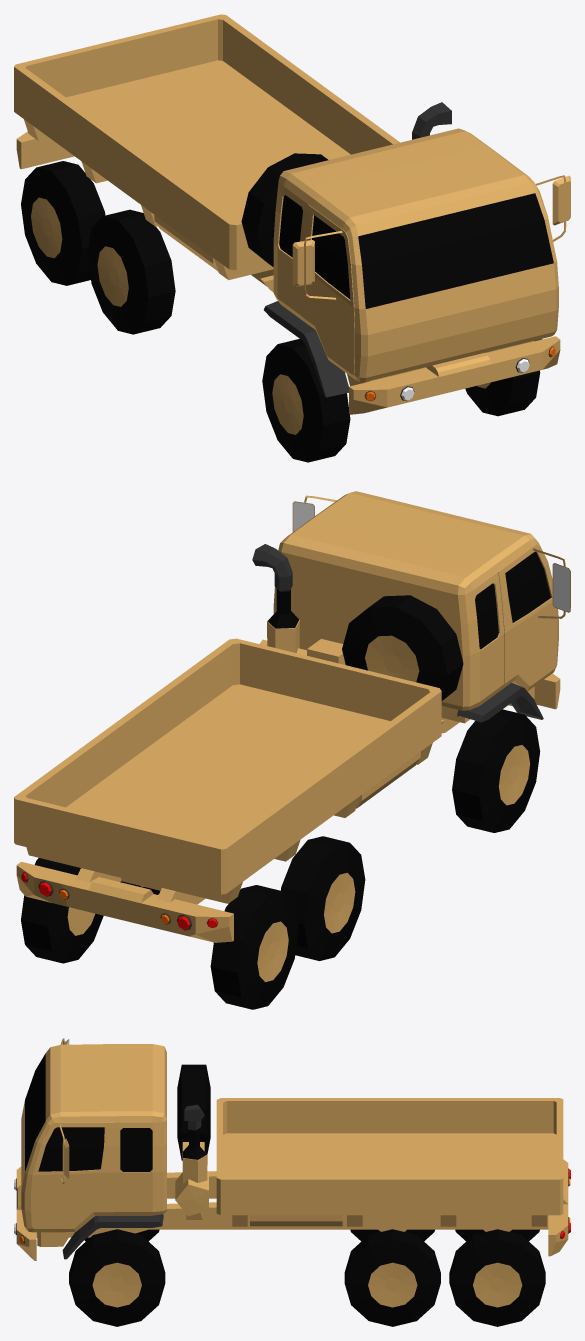
3 renders of one model, top to bottom at view 1: azimuth 30°, elevation 25°; view 2: azimuth 150°, elevation 25°; view 3: azimuth 270°, elevation 25°, orthographic. The views are drawn at different scales.
Parts seen in each view (by area): view 1: Plane.029, Cylinder.024, Cylinder.028, Cylinder.026, Plane.033, Plane.030, Plane.028, Cylinder.029, Plane.034; view 2: Plane.029, Plane.028, Cylinder.026, Plane.033, Cylinder.028, Cylinder.024, Plane.030, Cylinder.025; view 3: Plane.029, Plane.034, Cylinder.025, Cylinder.029, Cylinder.027, Plane.028, Plane.033, Cylinder.024, Cylinder.028.
Part boxes in pixels (bbox=[...]): Plane.029: bbox=[14, 14, 560, 414]; Cylinder.024: bbox=[87, 209, 175, 334]; Cylinder.028: bbox=[21, 161, 105, 285]; Cylinder.026: bbox=[262, 339, 350, 462]; Plane.033: bbox=[35, 19, 205, 97]; Plane.030: bbox=[292, 204, 354, 374]; Plane.028: bbox=[241, 102, 451, 292]; Cylinder.029: bbox=[465, 370, 540, 416]; Plane.034: bbox=[535, 175, 570, 245]; Plane.029: bbox=[14, 491, 560, 942]; Plane.028: bbox=[252, 544, 463, 723]; Cylinder.026: bbox=[452, 709, 540, 832]; Plane.033: bbox=[35, 801, 204, 889]; Cylinder.028: bbox=[210, 885, 298, 1009]; Cylinder.024: bbox=[281, 836, 365, 960]; Plane.030: bbox=[498, 545, 570, 686]; Cylinder.025: bbox=[21, 858, 103, 963]; Plane.029: bbox=[14, 1044, 570, 1260]; Plane.034: bbox=[31, 1122, 113, 1228]; Cylinder.025: bbox=[449, 1229, 545, 1326]; Cylinder.029: bbox=[69, 1229, 165, 1326]; Cylinder.027: bbox=[344, 1229, 440, 1326]; Plane.028: bbox=[175, 1064, 210, 1219]; Plane.033: bbox=[556, 1107, 563, 1170]; Cylinder.024: bbox=[350, 1229, 434, 1241]; Cylinder.028: bbox=[455, 1229, 539, 1241].
Bounding box in the file's own units: 304 × 281 × 669.
